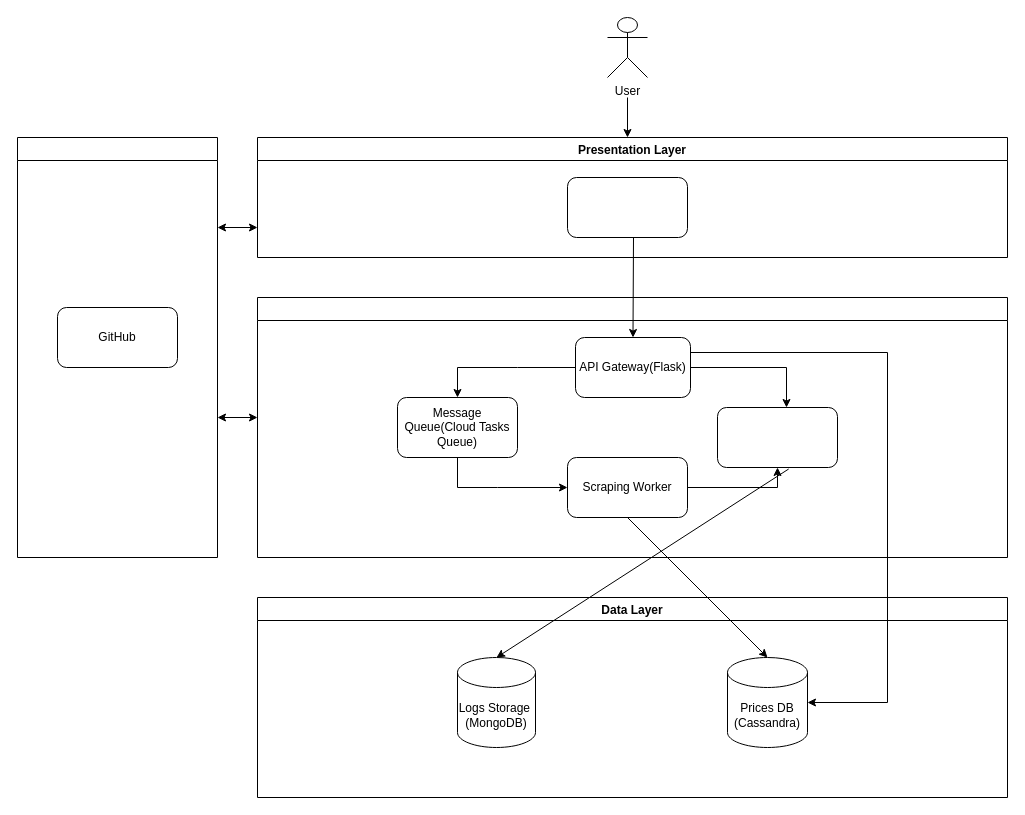
This 1025x815 diagram has some shape labels left out. Here are the shapes that lost their labels. From the top down, the box of each, then its label:
(566, 176, 688, 238): Web Server (ReactJS)
(16, 136, 218, 558): Shared/ Common service
(256, 296, 1008, 558): Logic Layer
(716, 406, 838, 468): Logs server
